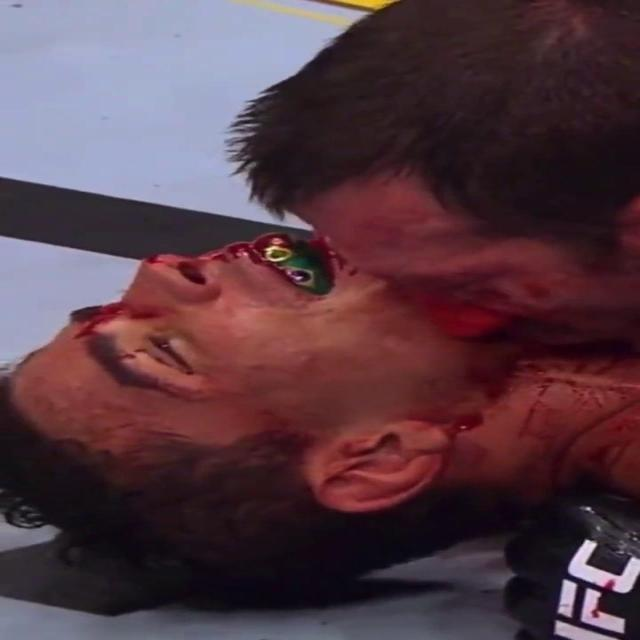flood: (38, 219, 319, 344)
